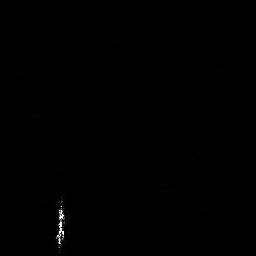ship: (52, 197, 69, 249)
